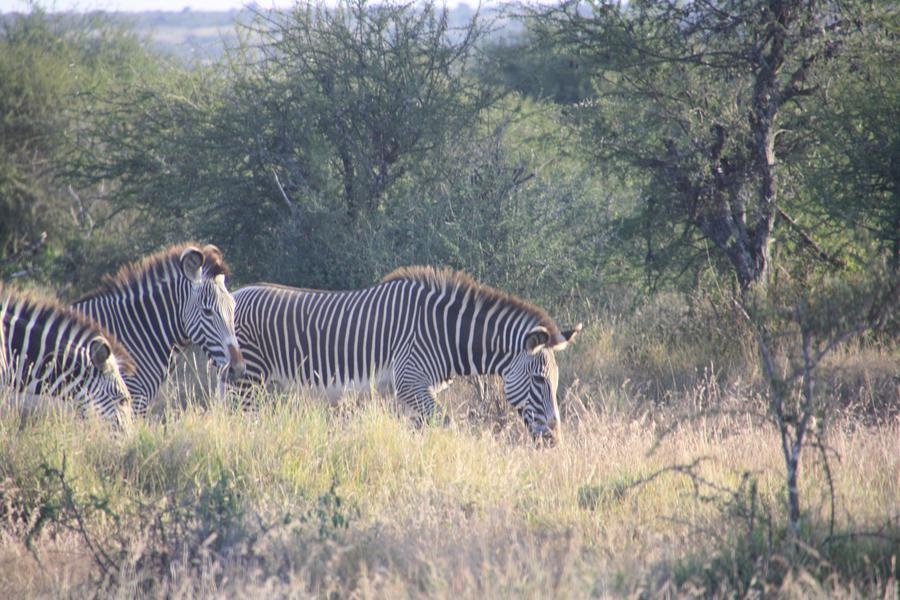zebra_grevys: (239, 277, 443, 381)
